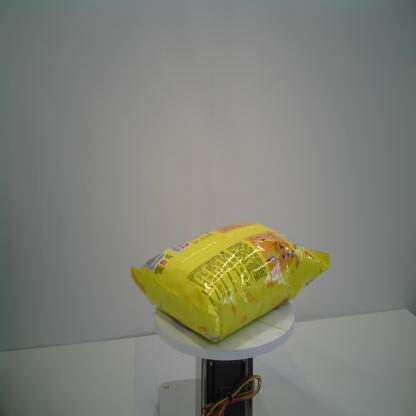Puffed Food: (126, 221, 332, 343)
